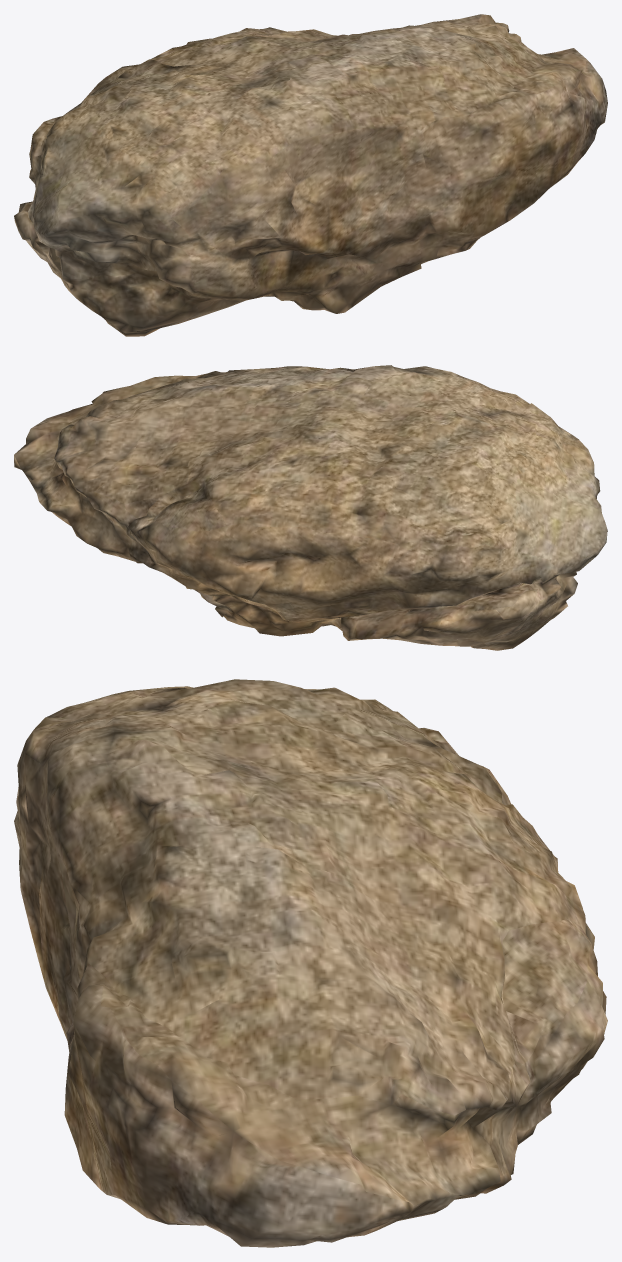
File: namaqualand_boulder_05.gltf
3 renders of one model, top to bottom at view 1: azimuth 30°, elevation 25°; view 2: azimuth 150°, elevation 25°; view 3: azimuth 270°, elevation 25°, orthographic. The views are drawn at different scales.
Parts seen in each view (by area): view 1: namaqualand_boulder_05; view 2: namaqualand_boulder_05; view 3: namaqualand_boulder_05.
Part boxes in pixels (x1=…): namaqualand_boulder_05: x1=14, y1=14, x2=607, y2=336; namaqualand_boulder_05: x1=14, y1=365, x2=607, y2=650; namaqualand_boulder_05: x1=14, y1=679, x2=607, y2=1247.
Bounding box in the file's own units: 1.36 × 0.5337 × 0.748.
1 material, 1 textured.
